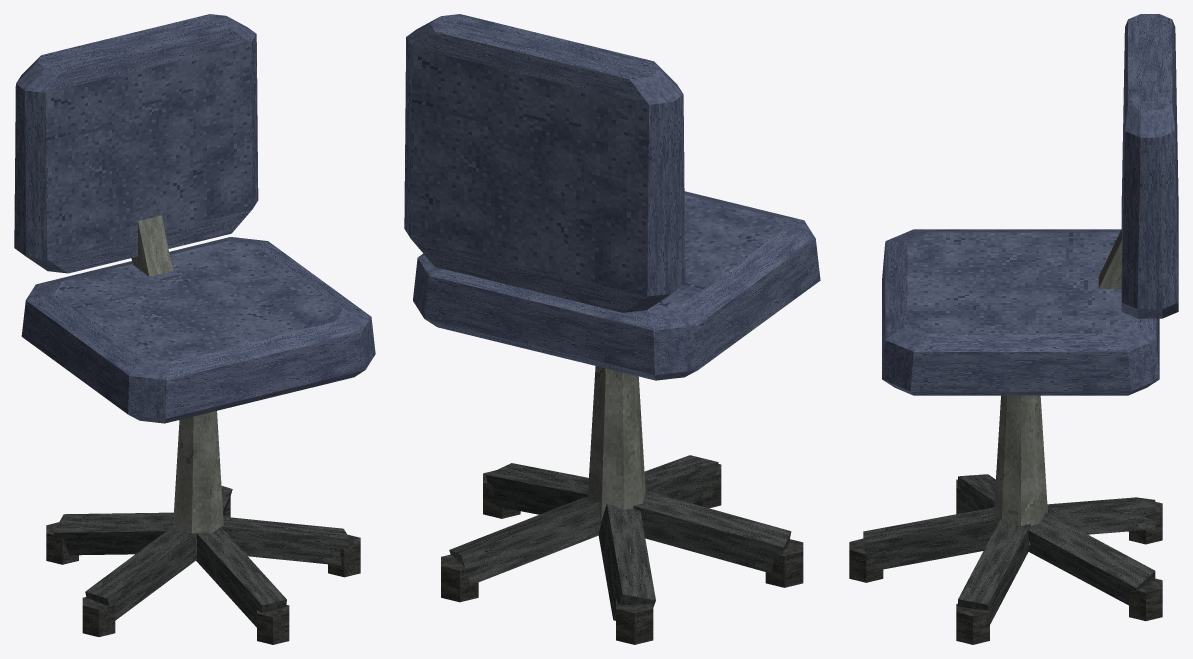
Rendered from chair.glb.
3 views of the same model, side by side, from view 1: azimuth 30°, elevation 25°; view 2: azimuth 150°, elevation 25°; view 3: azimuth 270°, elevation 25° (orthographic). The views are drawn at different scales.
Visible parts, largest first — view 1: Body; view 2: Body; view 3: Body.
Part boxes in pixels (x1,y1,x2,y2): Body: (14, 14, 375, 644); Body: (404, 14, 820, 644); Body: (849, 14, 1178, 644).
Bounding box in the file's own units: 0.528 × 0.897 × 0.5218.
1 material, 1 textured.
